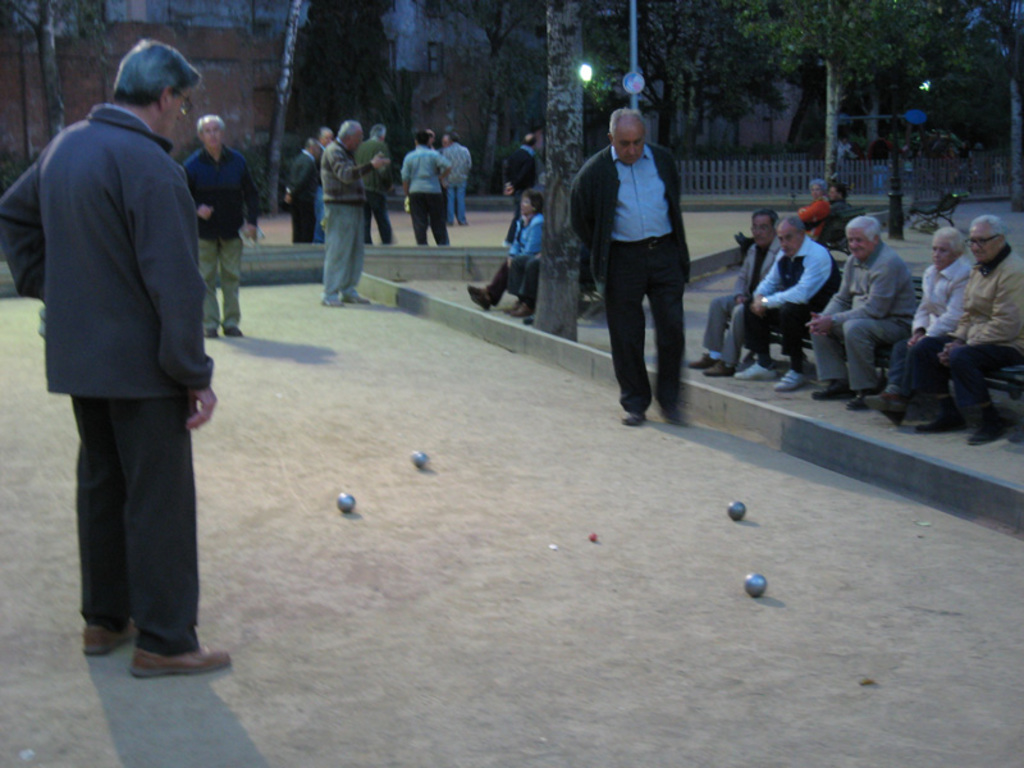Person: (283, 105, 1024, 445), (180, 115, 260, 339)
